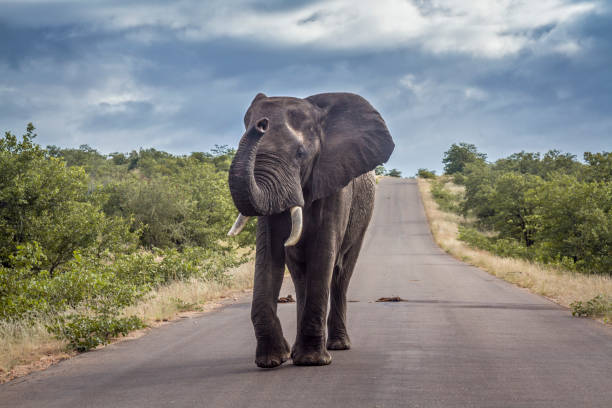africanelephant: (233, 93, 329, 270)
